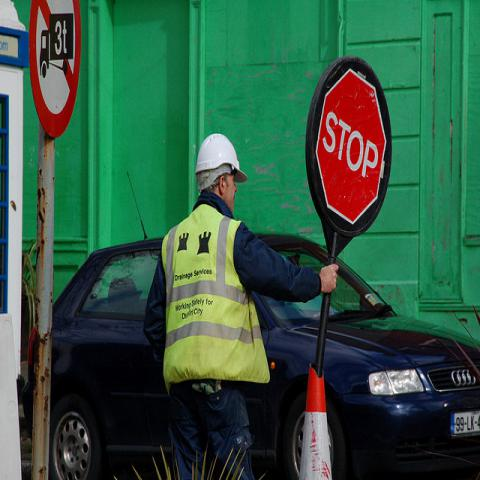car: (21, 234, 479, 474)
